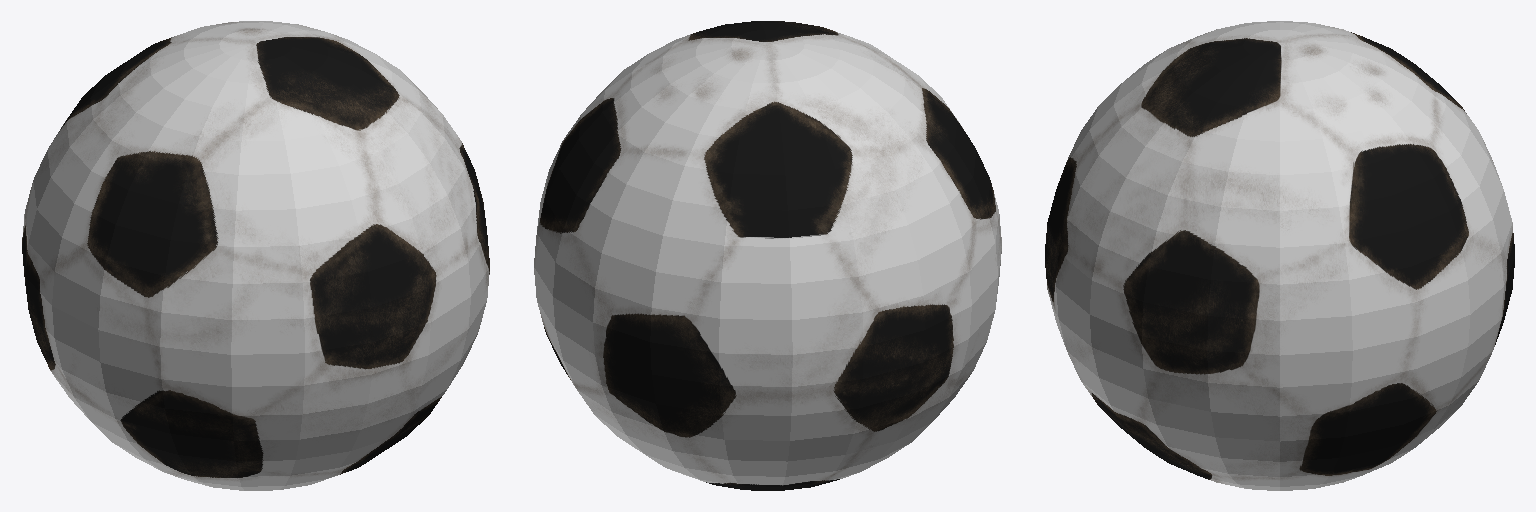
3 views of the same model, side by side, from view 1: azimuth 30°, elevation 25°; view 2: azimuth 150°, elevation 25°; view 3: azimuth 270°, elevation 25° (orthographic).
Visible parts, largest first — view 1: soccerBall_lambert1_0; view 2: soccerBall_lambert1_0; view 3: soccerBall_lambert1_0.
Part boxes in pixels (left/top/right/bottom): soccerBall_lambert1_0: left=22, top=21, right=489, bottom=490; soccerBall_lambert1_0: left=534, top=21, right=1001, bottom=490; soccerBall_lambert1_0: left=1045, top=21, right=1514, bottom=490.
Bounding box in the file's own units: 1.31 × 1.31 × 1.31.
Materials: 1 (1 with a texture image).